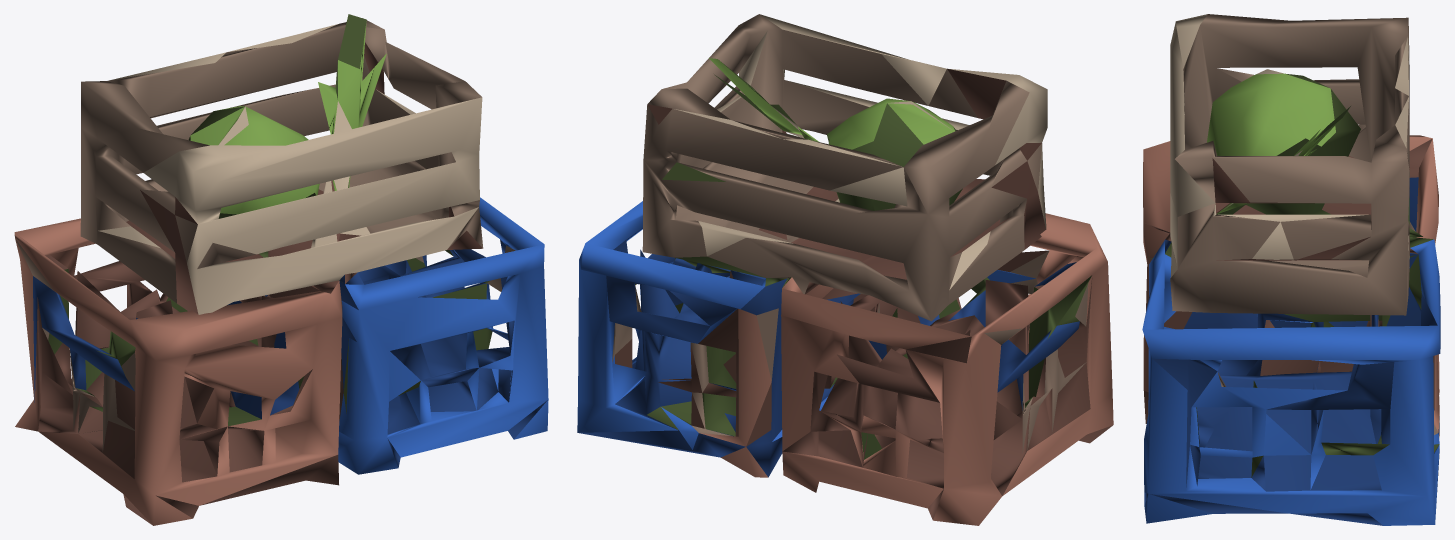
File: crates-DzFXue6e.glb
3 views of the same model, side by side, from view 1: azimuth 30°, elevation 25°; view 2: azimuth 150°, elevation 25°; view 3: azimuth 270°, elevation 25° (orthographic).
Visible parts, largest first — view 1: tripo_node_a9172a0c-a09f-4b00-93ca-913800ab745b; view 2: tripo_node_a9172a0c-a09f-4b00-93ca-913800ab745b; view 3: tripo_node_a9172a0c-a09f-4b00-93ca-913800ab745b.
Boxes of the visible parts, x1=… form: tripo_node_a9172a0c-a09f-4b00-93ca-913800ab745b: x1=14, y1=14, x2=548, y2=525; tripo_node_a9172a0c-a09f-4b00-93ca-913800ab745b: x1=577, y1=14, x2=1113, y2=525; tripo_node_a9172a0c-a09f-4b00-93ca-913800ab745b: x1=1142, y1=14, x2=1440, y2=525.
Size of the model in its own units: 0.9769 by 0.8526 by 0.6174.
